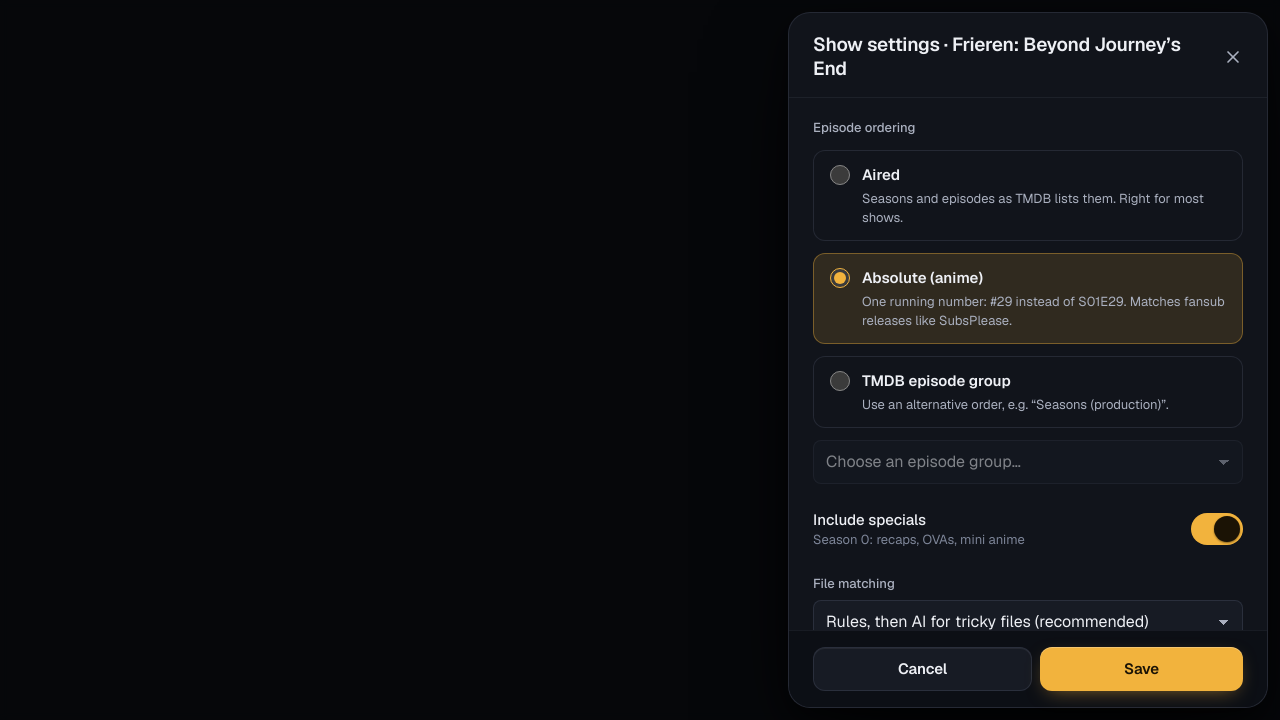
Test: ShowSettingsSheet › starts from the show’s settings, and the group picker only works for group ordering
The image size is (1280, 720).
Check: the dialog "Show settings · Frieren: Beyond Journey’s End" is shown, box [788,12,1268,708]
Check: the radio button labelled "Absolute (anime)" is checked, box [830,268,850,288]
Click the radio button labelled "TMDB episode group" at x=840, y=381, box [830,371,850,391]
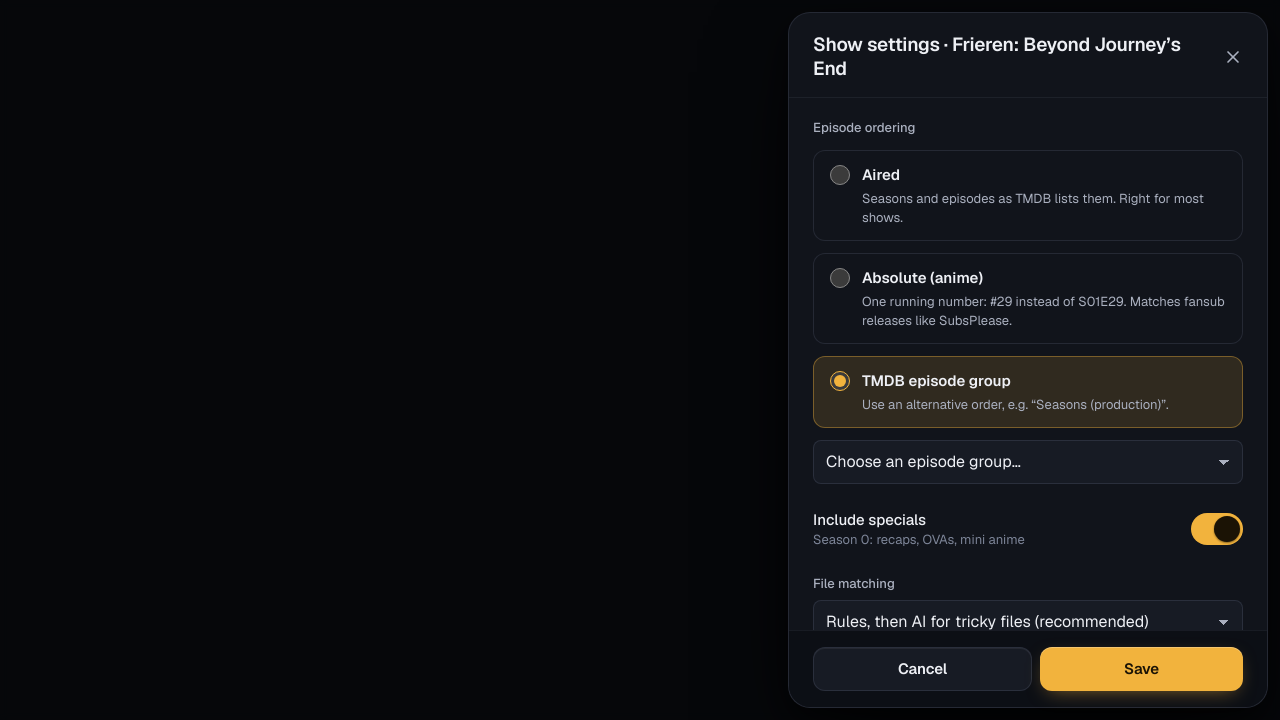
Check: the dropdown named "Episode group" is enabled, box [813,440,1243,484]
